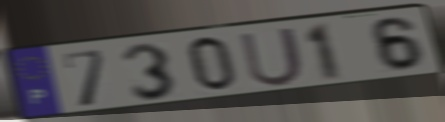0: (184, 34, 241, 96)
1: (305, 21, 348, 84)
3: (121, 41, 179, 102)
6: (367, 14, 428, 74)
7: (61, 47, 106, 109)
U: (237, 25, 307, 89)
